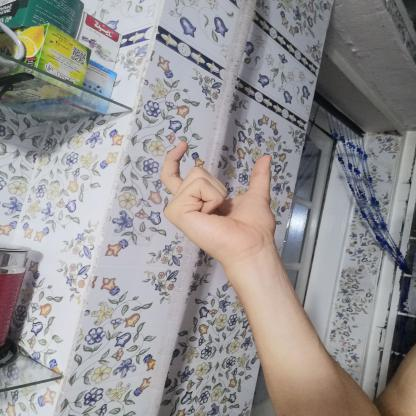NOON: (142, 129, 287, 267)
